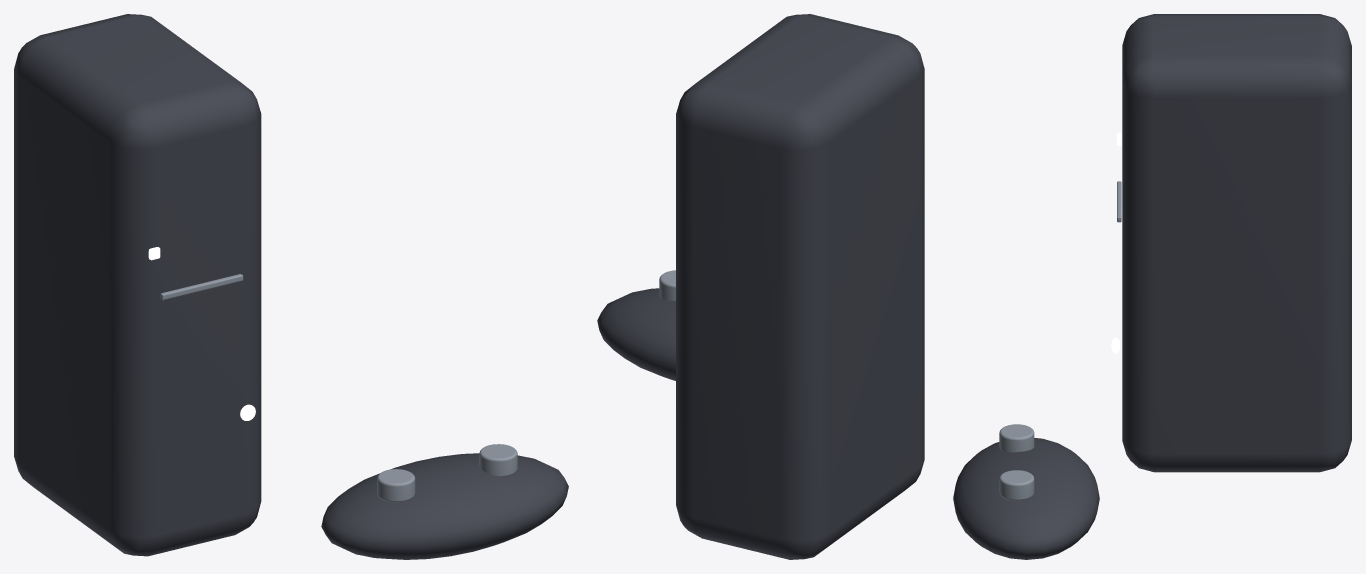
File: consolePs2.glb
3 views of the same model, side by side, from view 1: azimuth 30°, elevation 25°; view 2: azimuth 150°, elevation 25°; view 3: azimuth 270°, elevation 25° (orthographic). The views are drawn at different scales.
Visible parts, largest first — view 1: Console housing, Controller, Controller stick, Controller stick.001, Disc slot; view 2: Console housing, Controller, Controller stick.001; view 3: Console housing, Controller, Controller stick.001, Controller stick.
Boxes of the visible parts, <box> form: Console housing: <box>14,14,261,556</box>; Controller: <box>321,453,568,559</box>; Controller stick: <box>377,469,415,502</box>; Controller stick.001: <box>479,444,517,476</box>; Disc slot: <box>160,274,243,300</box>; Console housing: <box>676,14,924,559</box>; Controller: <box>597,288,675,380</box>; Controller stick.001: <box>659,270,675,300</box>; Console housing: <box>1122,14,1351,472</box>; Controller: <box>953,438,1099,559</box>; Controller stick.001: <box>999,470,1034,500</box>; Controller stick: <box>999,424,1034,452</box>.
Size of the model in its own units: 1.27 by 1.43 by 1.25.
